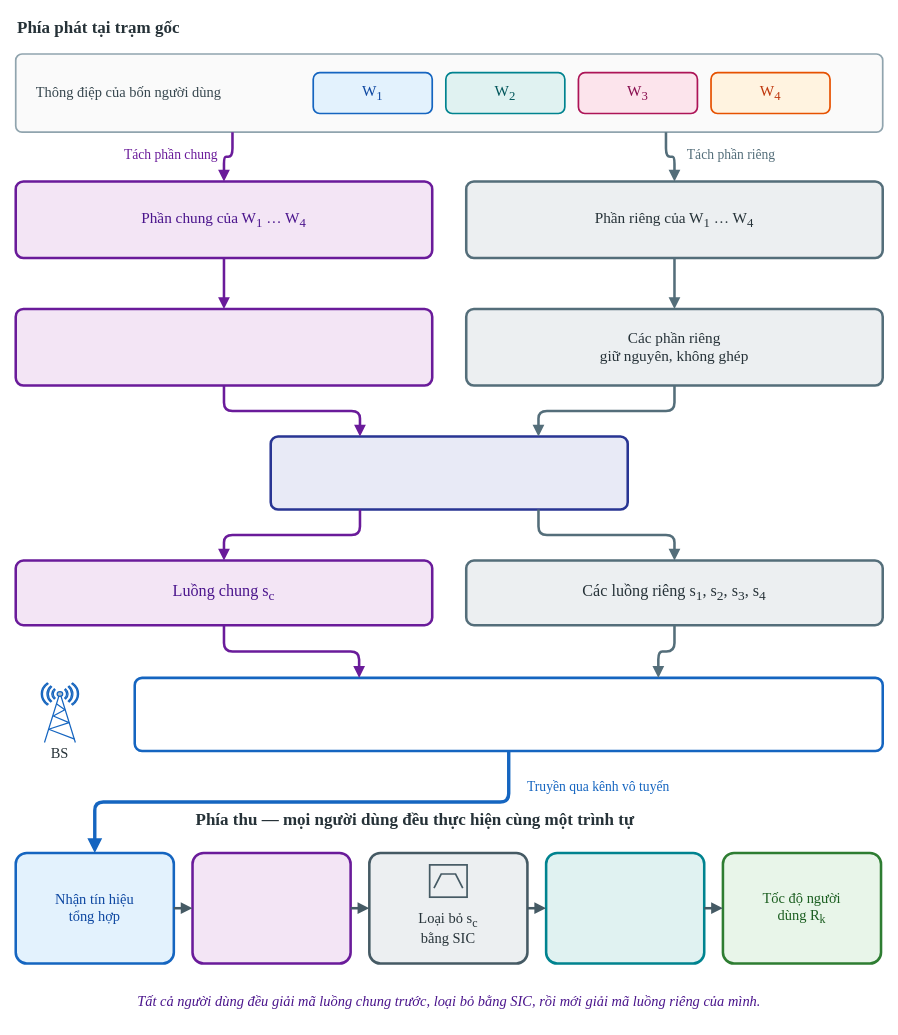
Image size: 898x1035. Some labels were removed from this diagram. The centre of each missing label's shape, as x and y in pixels:
"Bộ mã hóa RSMA" belongs at [449,472].
"Giải mã luồng chung s c" belongs at [271,907].
"Giải mã luồng riêng s k" belongs at [624,907].
"Thông điệp chung (ghép bốn phần chung)" belongs at [223,346].
"Tín hiệu tổng hợp x = √p c s c + Σ k √p k s k" belongs at [508,714].
